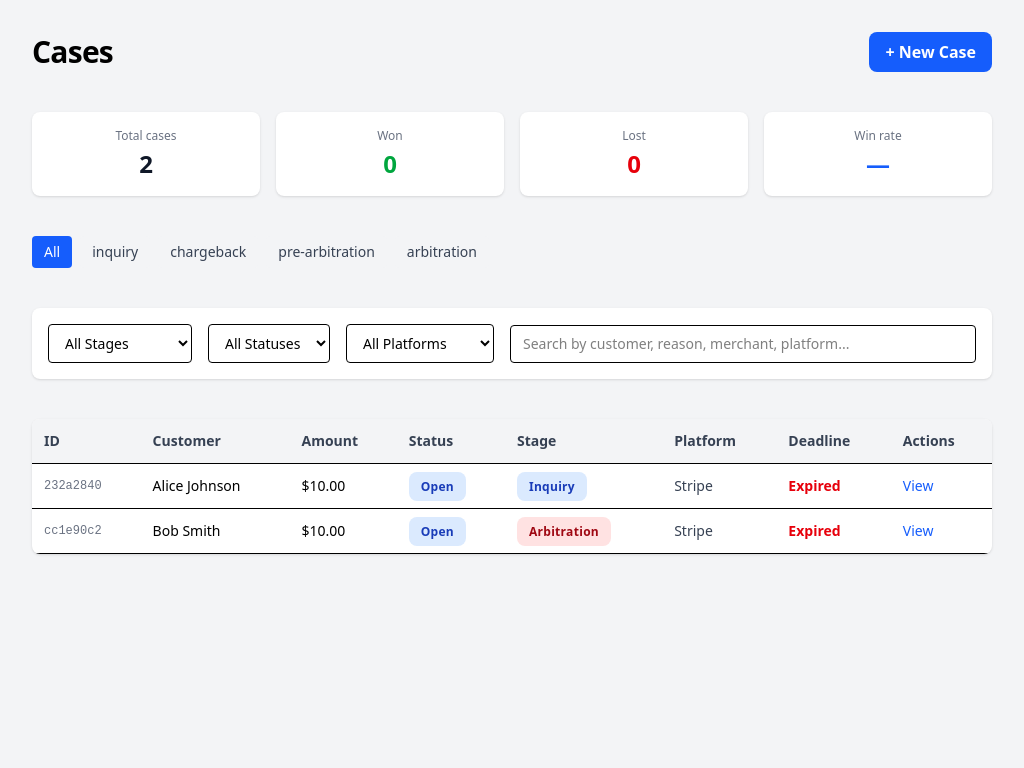
Test: Dashboard › lists cases and shows a no-match empty state when filters exclude everything
The image size is (1024, 768).
Check: the text "Alice Johnson" is shown, box [141, 464, 290, 508]
Check: the text "Bob Smith" is shown, box [141, 508, 290, 554]
Type "nobody-matches-this" into the field with placeholder "Search by customer, reason, merchant, platform...".
click(743, 344); type("nobody-matches-this")  # box [510, 324, 976, 362]
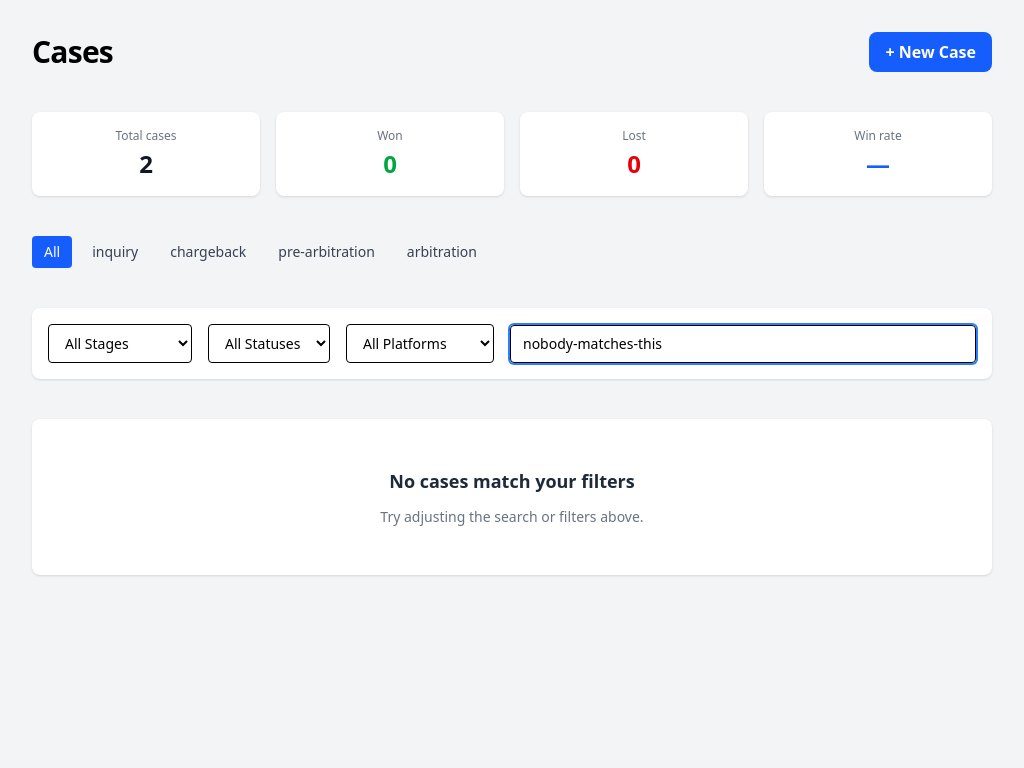
Check: the text "No cases match your filters" is shown, box [389, 469, 635, 493]
Check: the text "Alice Johnson" is gone
